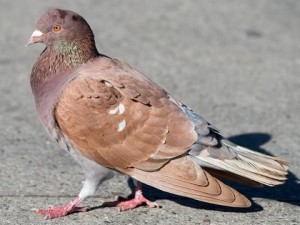pigeon: (23, 7, 291, 221)
